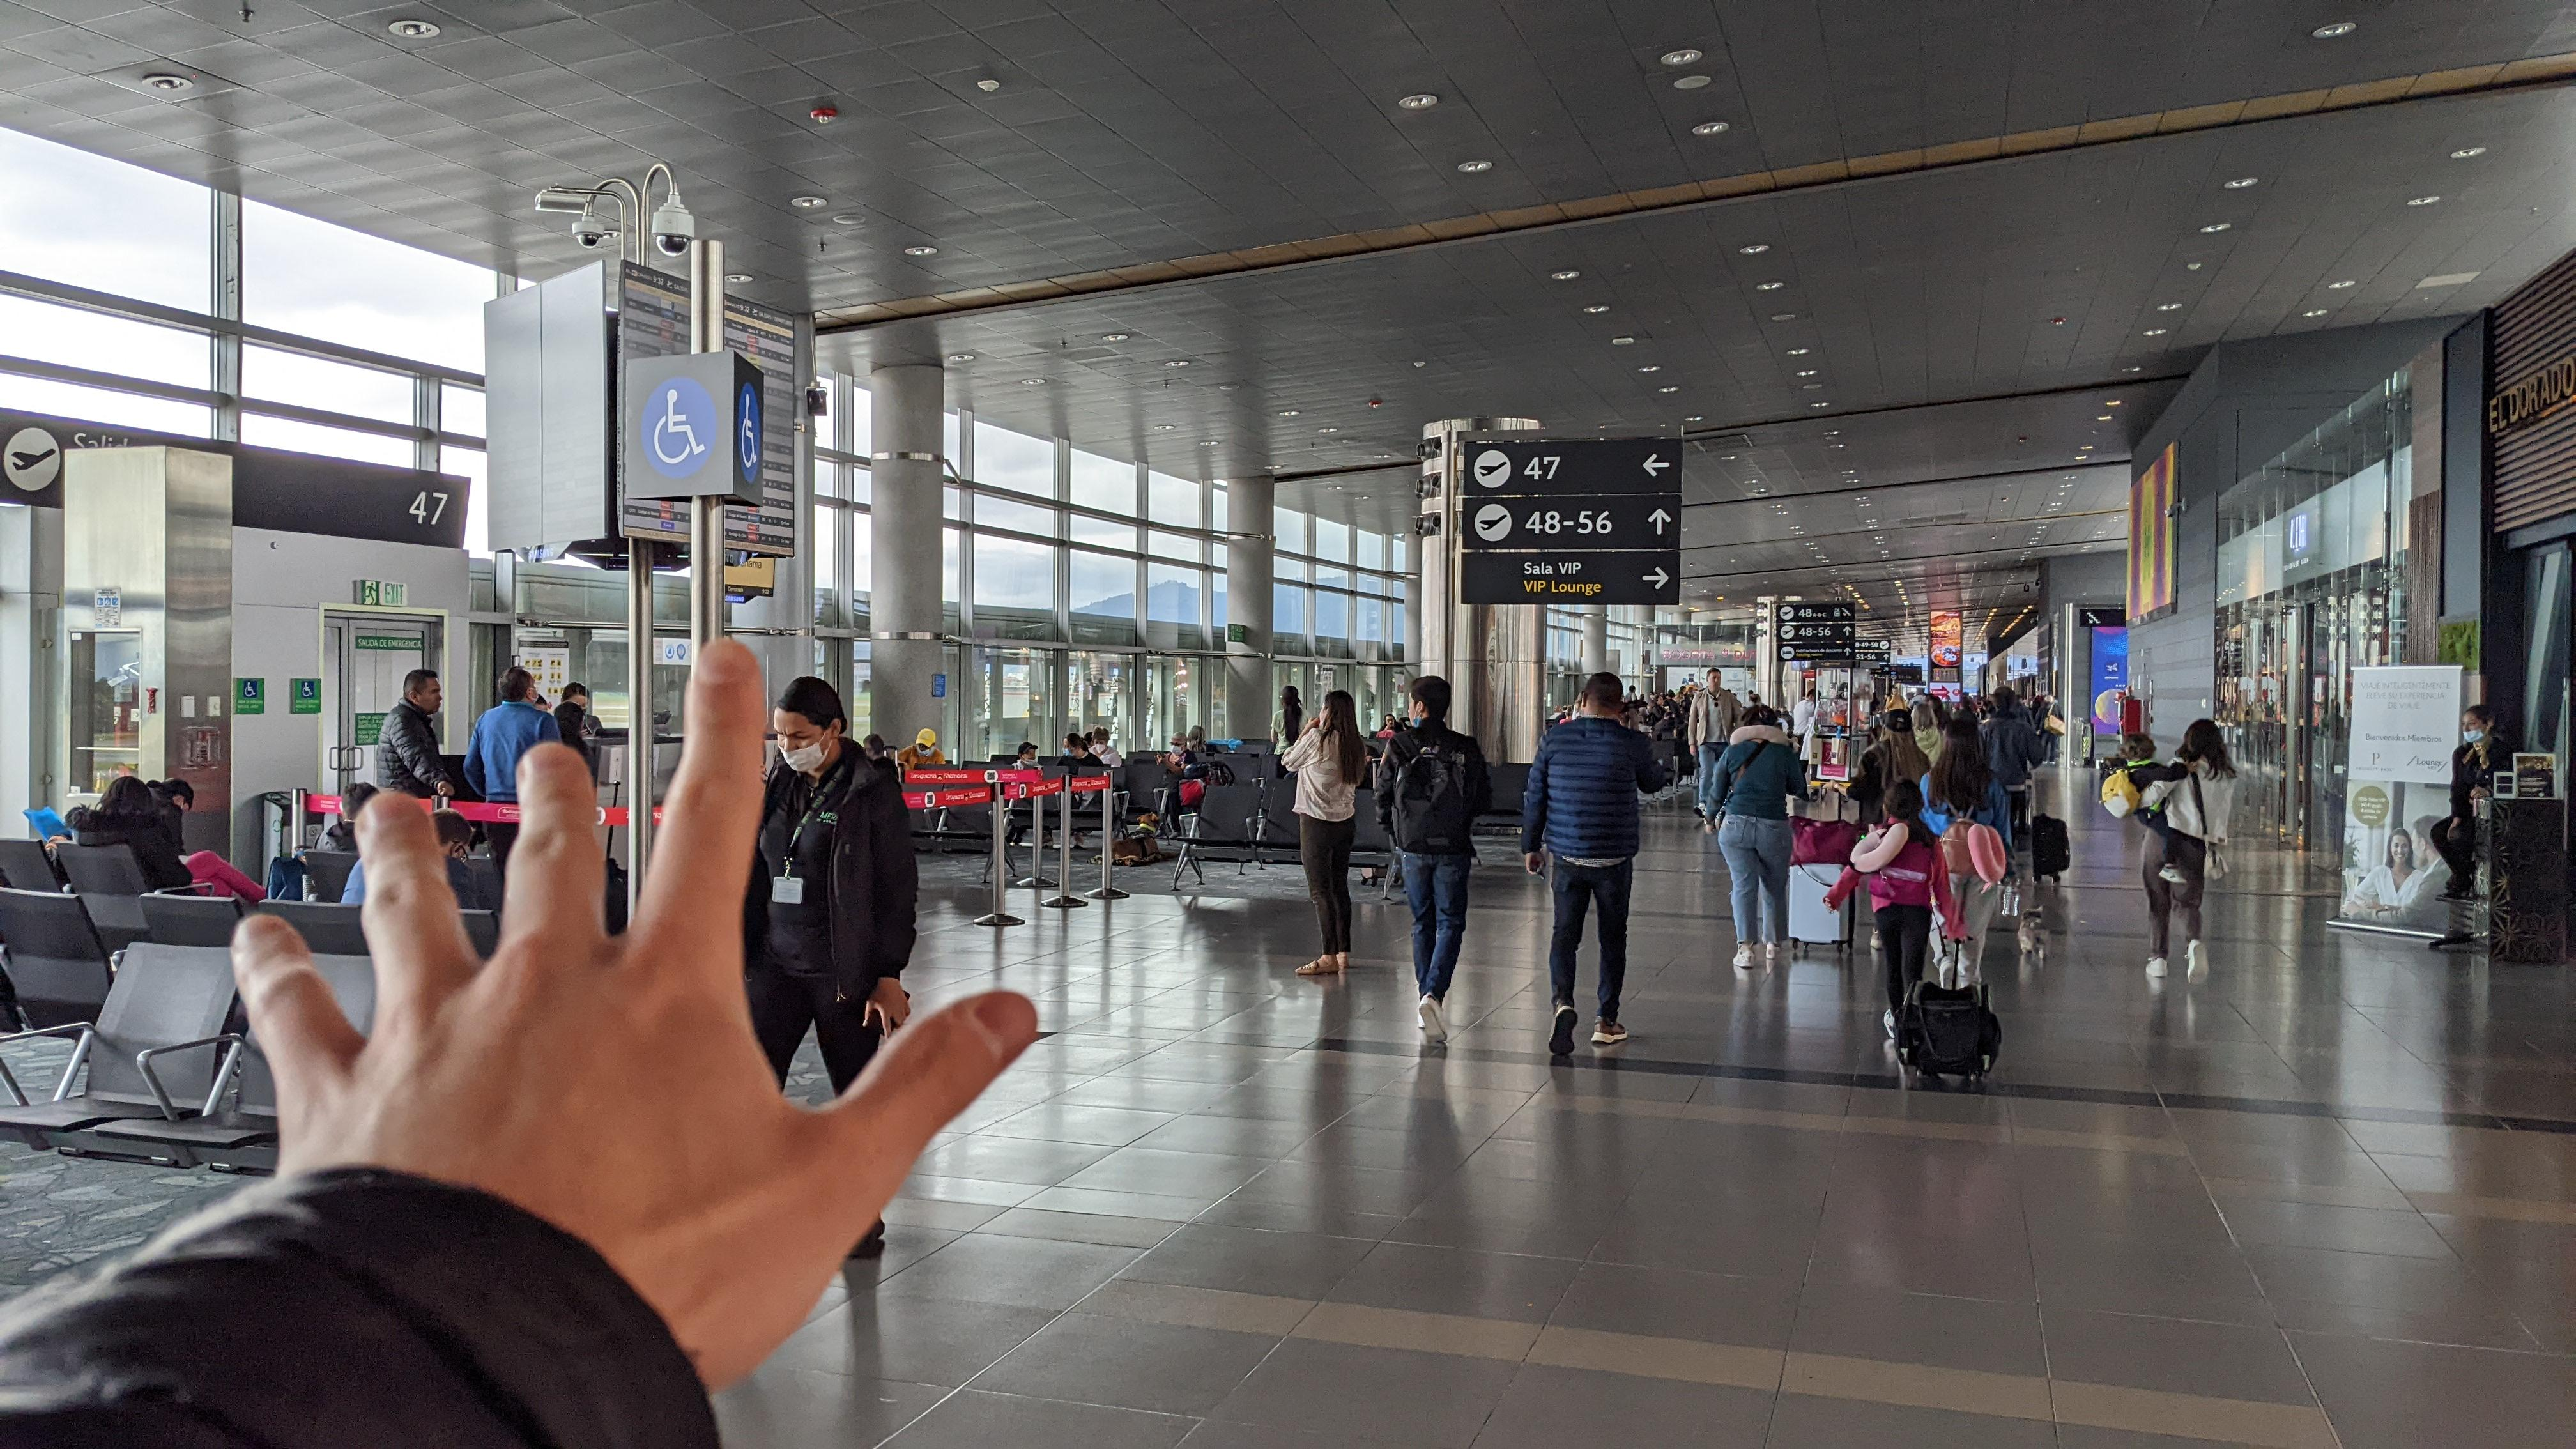airplane symbol: (11, 446, 57, 472), (1479, 513, 1507, 533), (1477, 460, 1507, 478), (1782, 609, 1792, 617), (1782, 628, 1792, 635)
emergency exit: (363, 580, 379, 605)
handicapped symbol: (653, 391, 706, 465), (741, 393, 759, 469), (242, 681, 257, 697), (301, 681, 313, 697)
left arrow: (1642, 453, 1672, 479)
right arrow: (1642, 566, 1670, 591)
up arrow: (1645, 506, 1672, 536), (1842, 625, 1852, 637), (1844, 646, 1852, 656), (1882, 653, 1890, 660)
